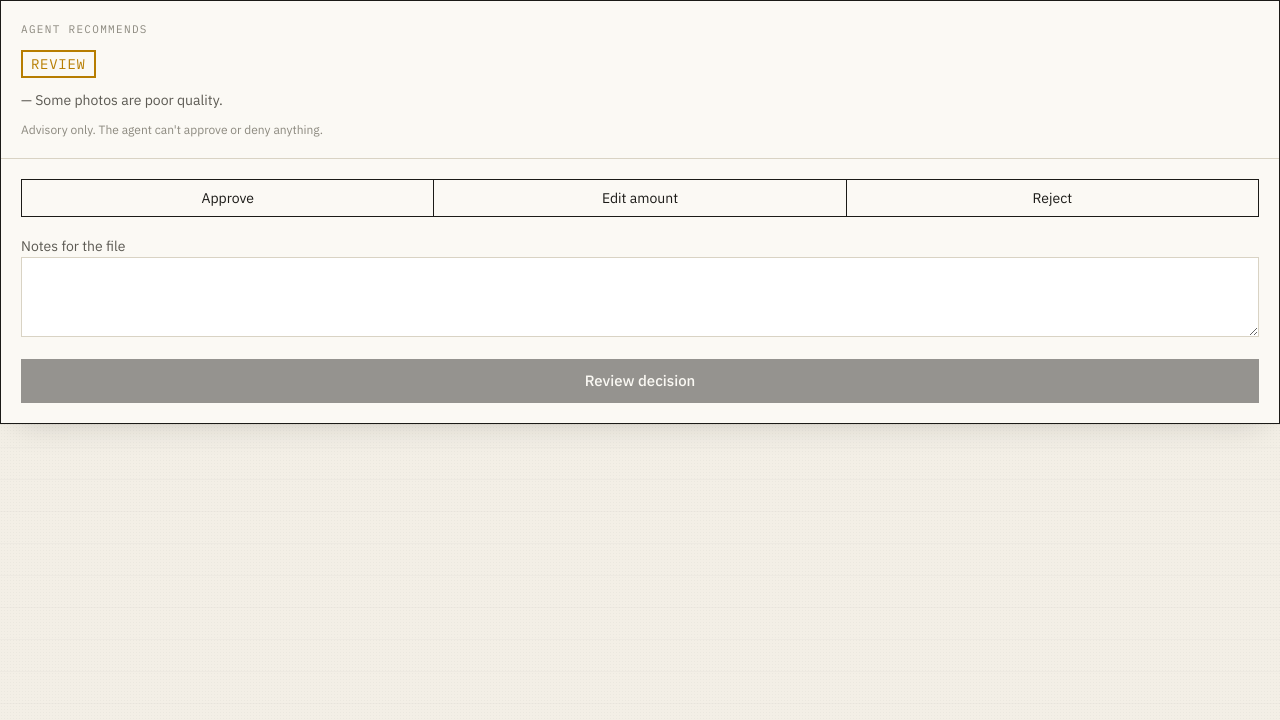
Test case: DecisionPanel › shows the gateway's refusal and lets the adjuster try again
Click the radio button labelled "Reject" at (1052, 198), box [847,180,1258,216]
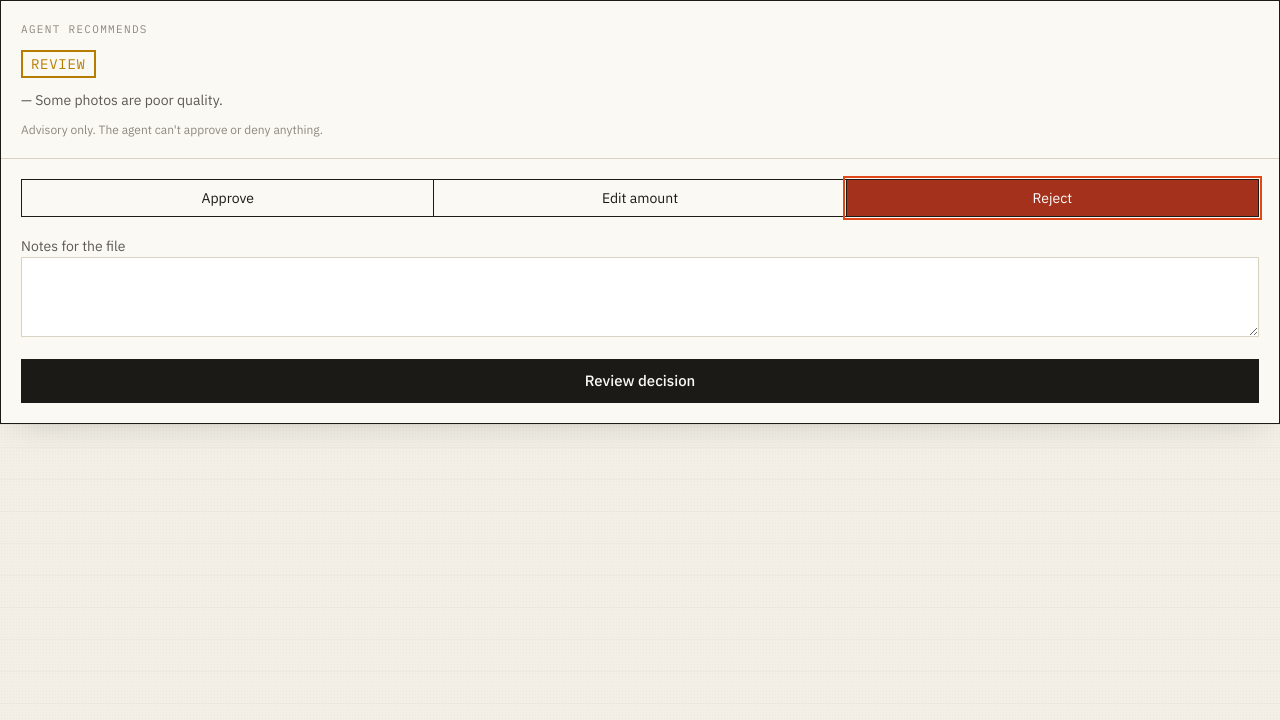
Click the button "Review decision" at (640, 381), box [21,358,1259,403]
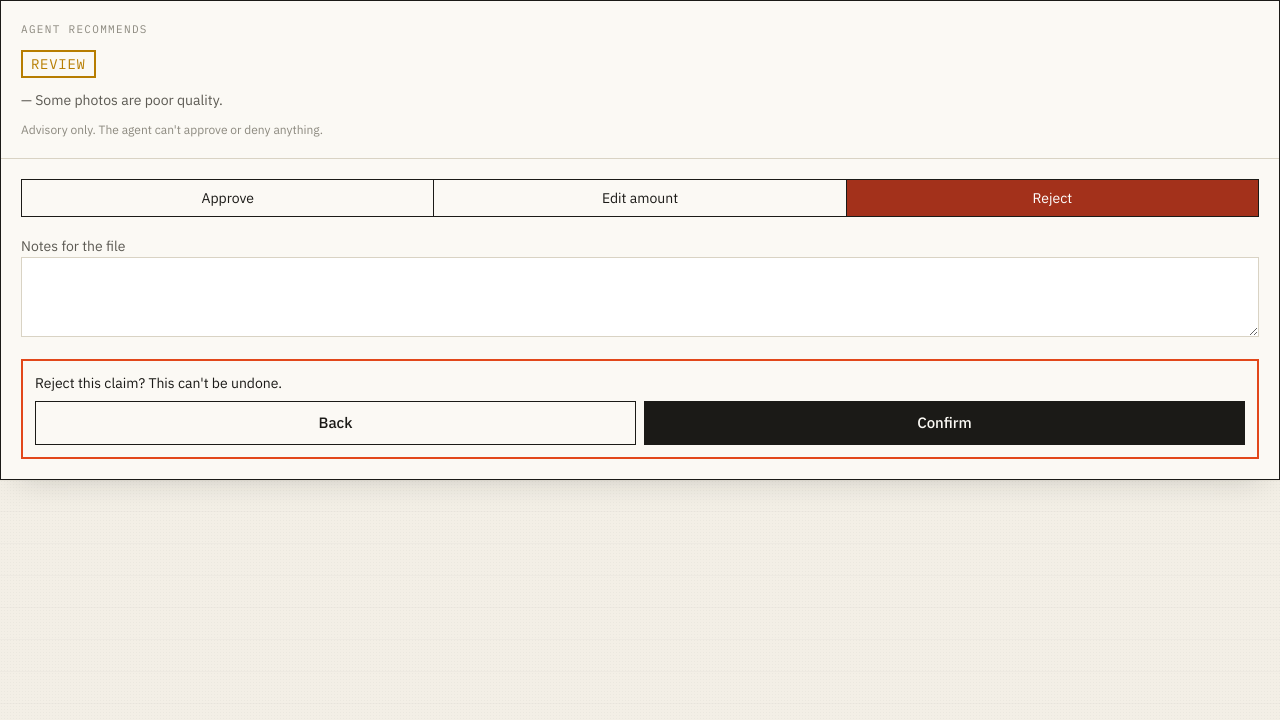
Expected: the text "Reject this claim? This can't be undone." is shown, [35,374,282,392]
Click the button "Confirm" at (944, 423), box [644,400,1245,445]
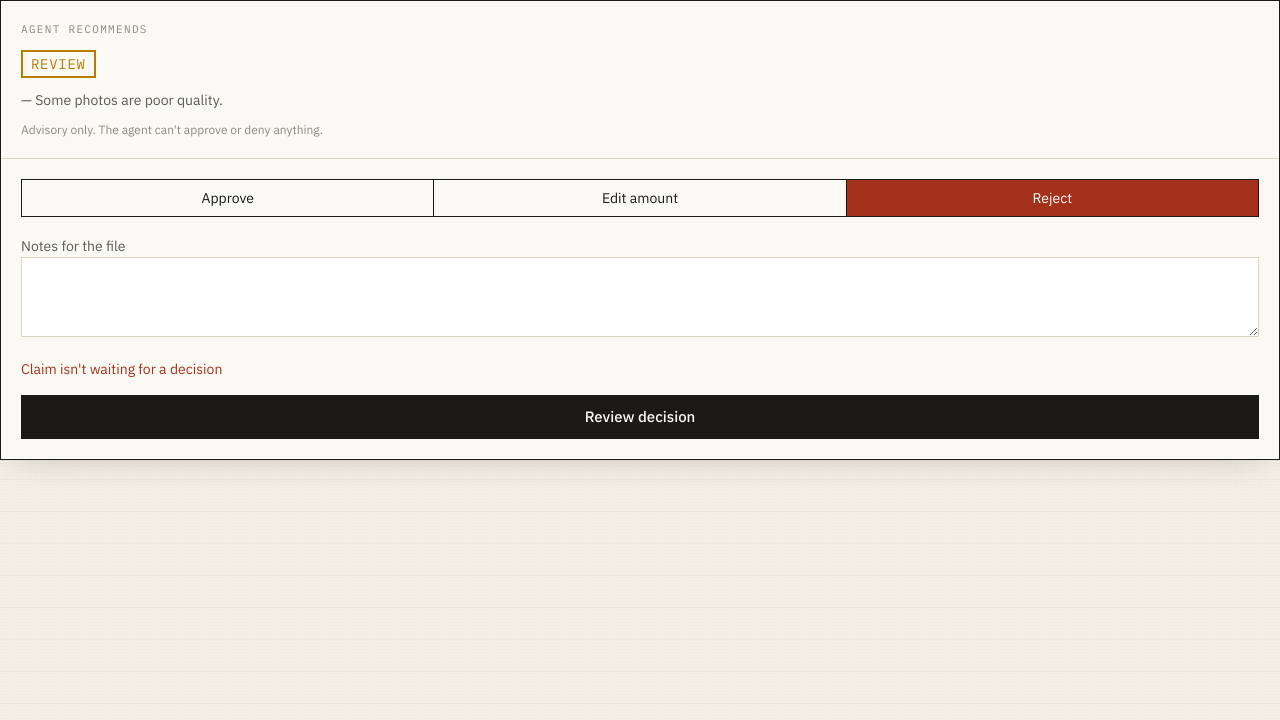
Expected: the message reads "Claim isn't waiting for a decision", [21,360,222,378]
Expected: the button "Review decision" is enabled, [21,394,1259,439]
